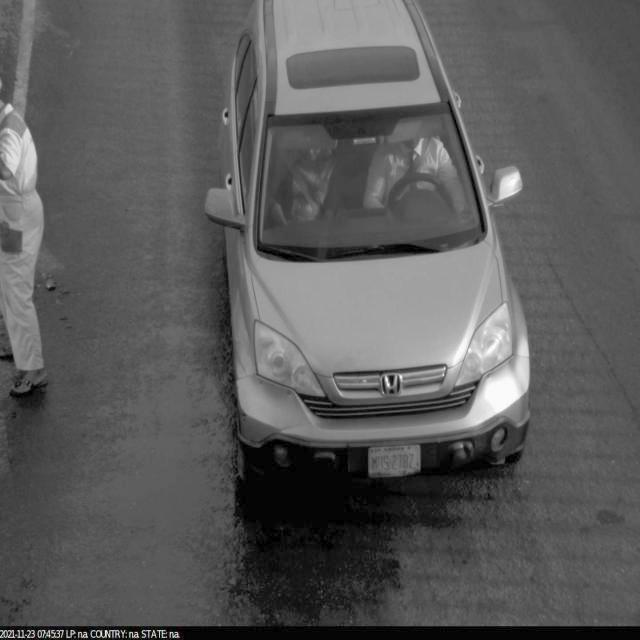person_with_seatbelt: (365, 109, 464, 246)
